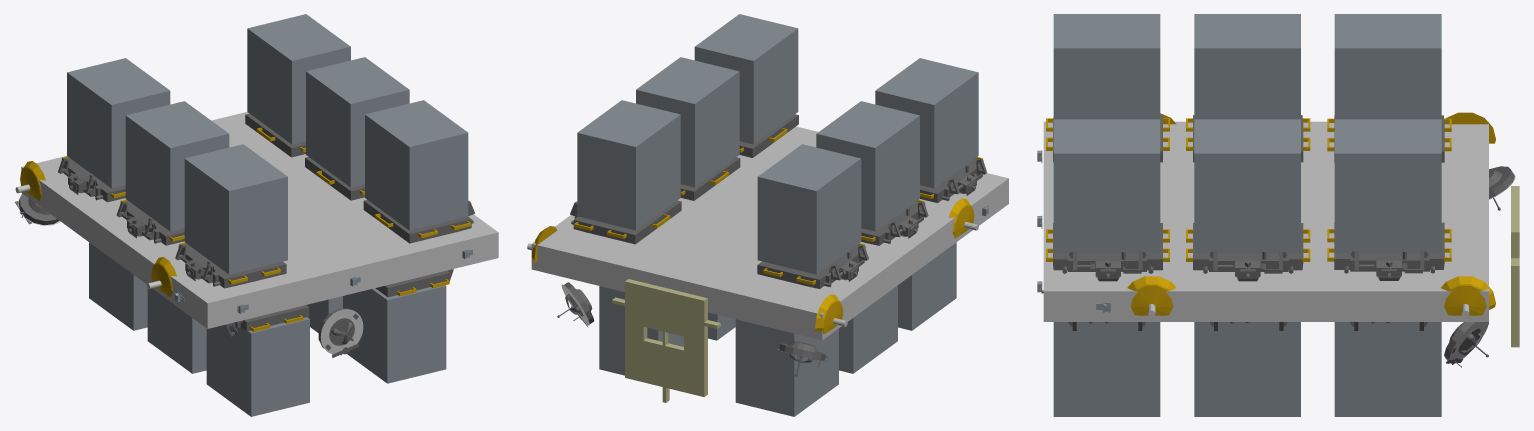
Rendered from Platform1.dae.
The picture shows the model from 3 angles, left to right: view 1: azimuth 30°, elevation 25°; view 2: azimuth 150°, elevation 25°; view 3: azimuth 270°, elevation 25°; orthographic projection. The views are drawn at different scales.
Parts seen in each view (by area): view 1: elc4.layer (×24); view 2: elc4.layer (×21); view 3: elc4.layer (×18).
Boxes of the visible parts, x1=… form: elc4.layer (×24): x1=18, y1=14, x2=498, y2=416; elc4.layer (×21): x1=531, y1=14, x2=1008, y2=416; elc4.layer (×18): x1=1043, y1=14, x2=1519, y2=416.
Size of the model in its own units: 192 by 212 by 134.
